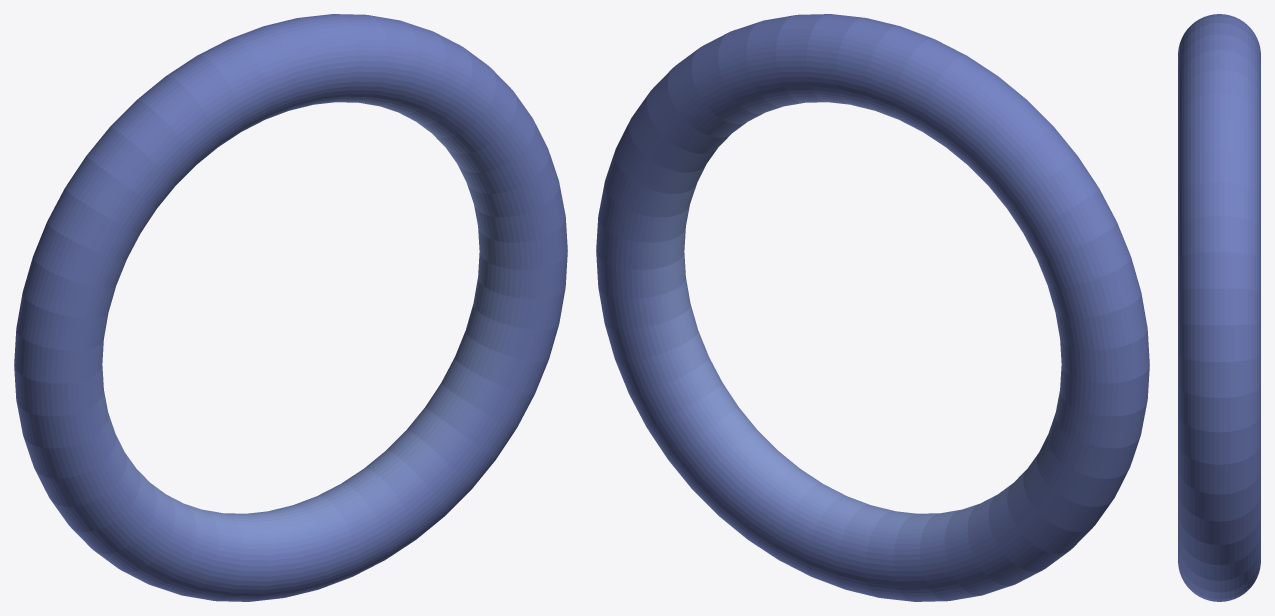
3 views of the same model, side by side, from view 1: azimuth 30°, elevation 25°; view 2: azimuth 150°, elevation 25°; view 3: azimuth 270°, elevation 25° (orthographic). The views are drawn at different scales.
Visible parts, largest first — view 1: world; view 2: world; view 3: world.
Boxes of the visible parts, x1,y1,x2,y2 form: world: (14,14,567,601); world: (596,14,1149,601); world: (1178,14,1260,601).
Size of the model in its own units: 21.73 by 21.69 by 3.06.
